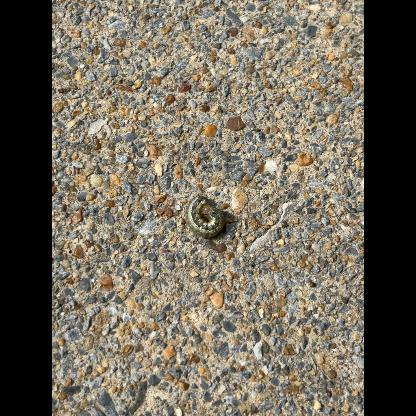Fall Armyworm Larvae: (184, 194, 226, 240)
